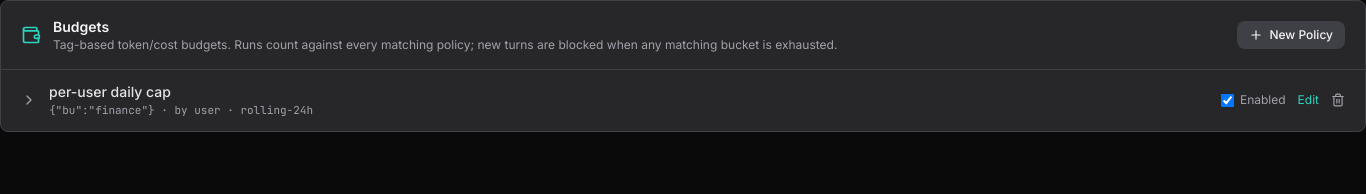
BudgetsSection › shows the API detail and keeps the row when deletion fails
What coordinates should you click on to do the following:
click the button named "Delete per-user daily cap"
I would click on:
 (1338, 100)
Its box is [1331,93,1345,107].
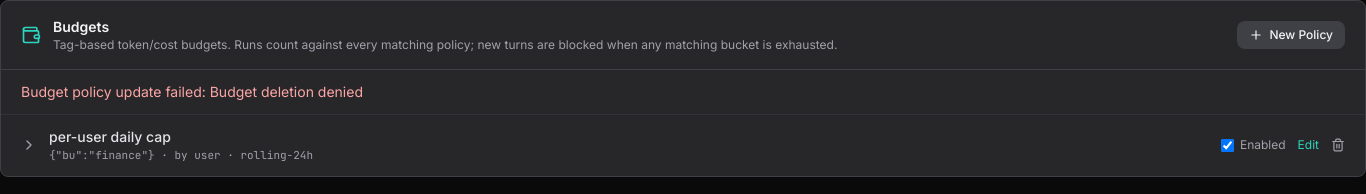
Expected: the text "per-user daily cap" is shown, [49,128,171,145]
Expected: the message "Budget policy update failed: Budget deletion denied" is shown, [21,83,363,100]
